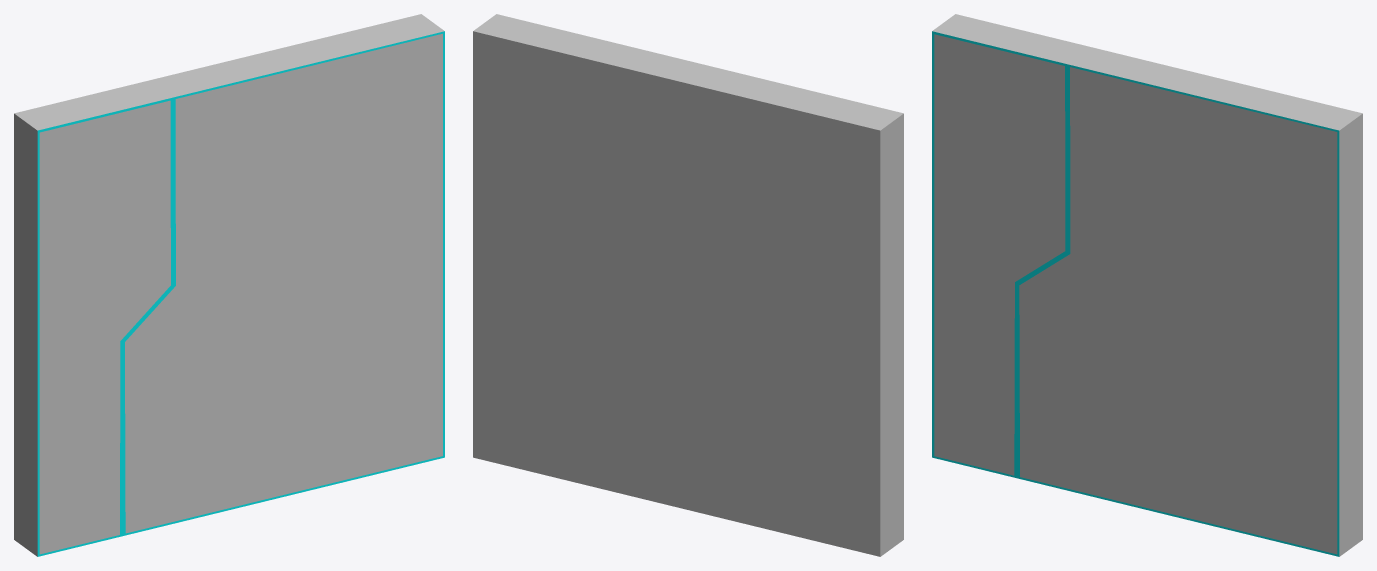
File: Wall_003.fbx
3 renders of one model, left to right at view 1: azimuth 30°, elevation 25°; view 2: azimuth 150°, elevation 25°; view 3: azimuth 330°, elevation 25°, orthographic.
Visible parts, largest first — view 1: Wall_003; view 2: Wall_003; view 3: Wall_003.
Part boxes in pixels (box(x1,y1,x2,y2)): Wall_003: box(14, 14, 444, 556); Wall_003: box(473, 14, 903, 556); Wall_003: box(932, 14, 1362, 556).
Bounding box in the file's own units: 300 × 300 × 30.
